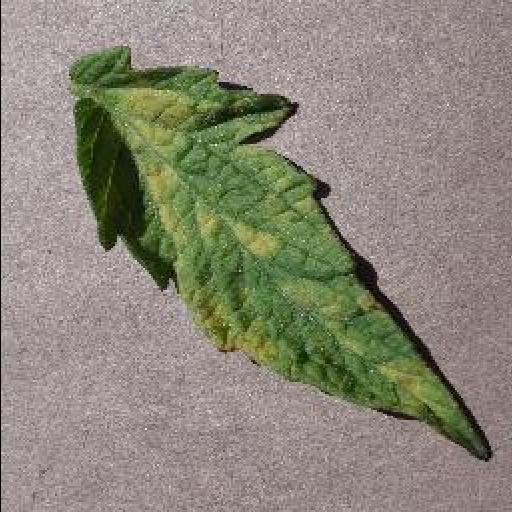disease_tomato: (68, 50, 492, 463)
